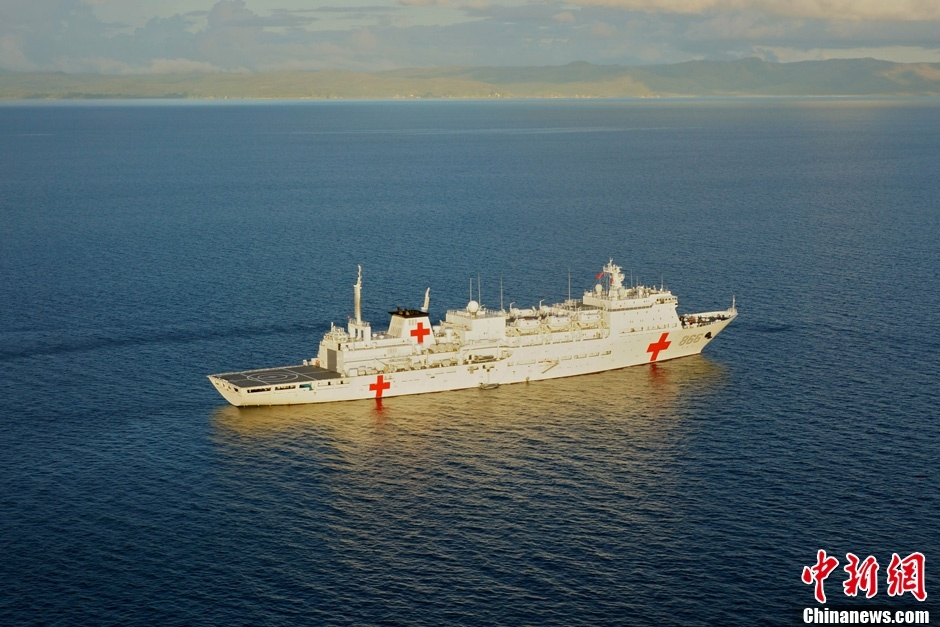warship: (205, 259, 741, 413)
